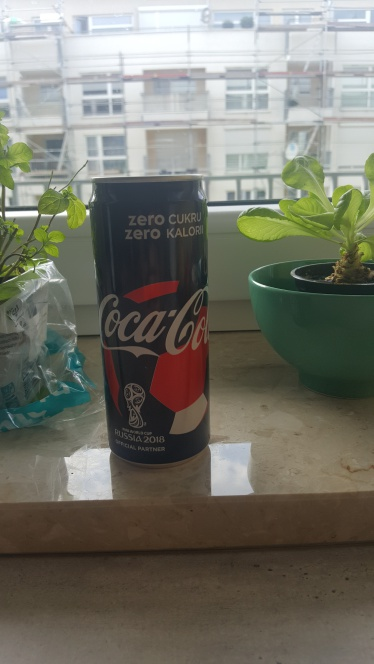colazero: (80, 170, 217, 468)
